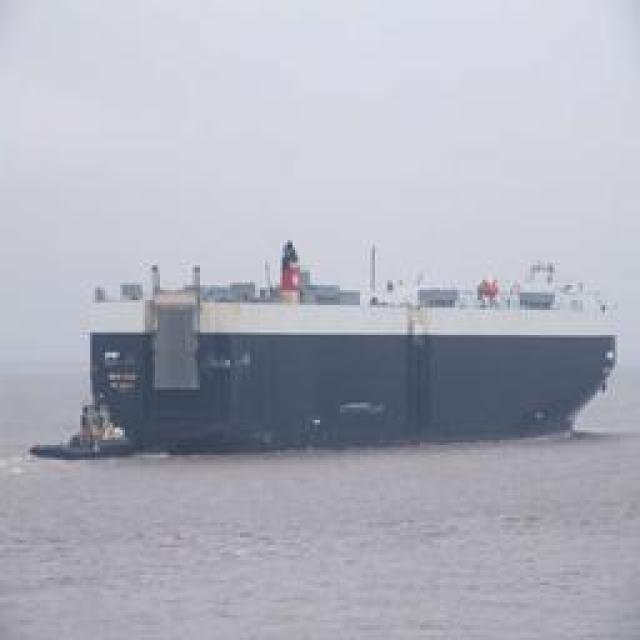ship2: (68, 243, 618, 456)
